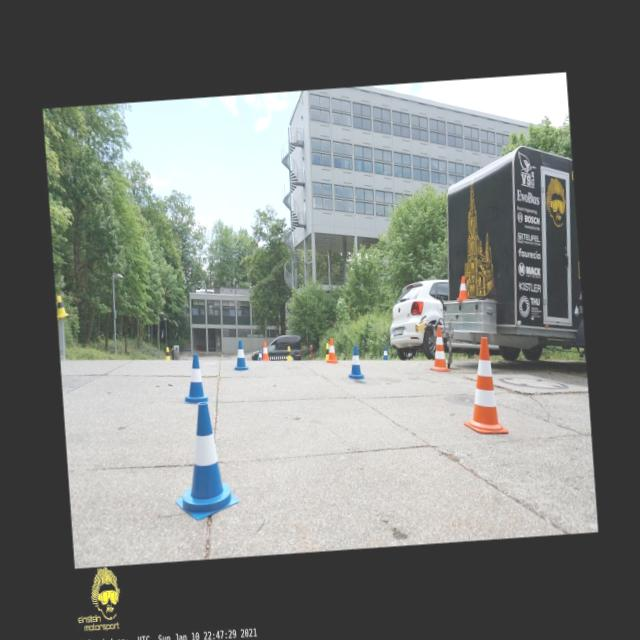blue_cone: (168, 398, 240, 520), (180, 352, 208, 403), (346, 344, 364, 378), (232, 340, 248, 370), (382, 346, 388, 360), (257, 348, 262, 361)
large_orange_cone: (457, 336, 508, 436), (427, 326, 451, 372)
orange_cone: (454, 275, 468, 300), (326, 337, 337, 363), (260, 340, 270, 361)
yellow_cone: (56, 294, 70, 316), (323, 342, 329, 360), (286, 346, 292, 361), (164, 346, 170, 359)
